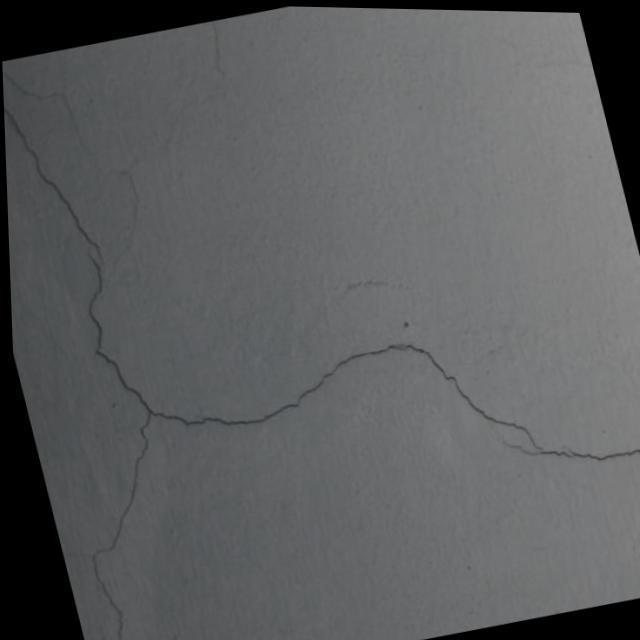Crack: (142, 270, 640, 582), (1, 46, 155, 428), (40, 412, 211, 640)
